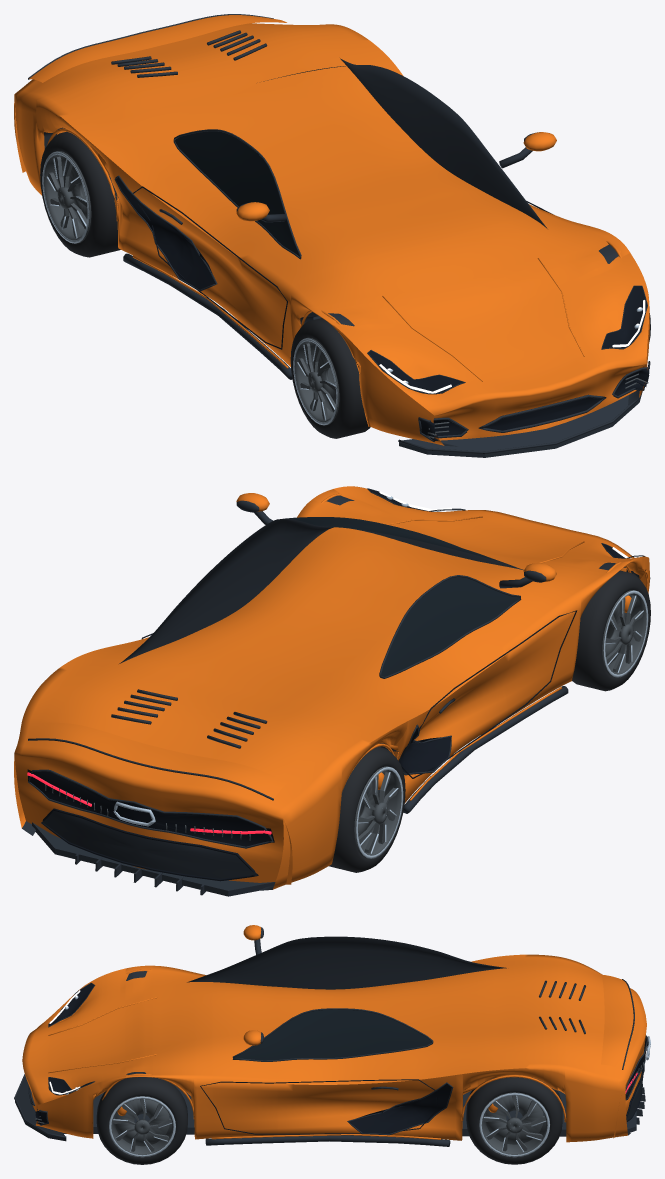
The model's file is McLaren_LOD0.glb.
The picture shows the model from 3 angles, top to bottom: view 1: azimuth 30°, elevation 25°; view 2: azimuth 150°, elevation 25°; view 3: azimuth 270°, elevation 25°; orthographic projection. The views are drawn at different scales.
Visible parts, largest first — view 1: McLaren_Body, Wheel_Rear_L, Wheel_Front_L; view 2: McLaren_Body, Wheel_Front_L, Wheel_Rear_L; view 3: McLaren_Body, Wheel_Rear_R, Wheel_Front_R.
Boxes of the visible parts, bbox=[...] form: McLaren_Body: bbox=[14, 14, 650, 457]; Wheel_Rear_L: bbox=[40, 131, 120, 257]; Wheel_Front_L: bbox=[290, 318, 370, 438]; McLaren_Body: bbox=[14, 486, 650, 896]; Wheel_Front_L: bbox=[572, 570, 650, 691]; Wheel_Rear_L: bbox=[329, 747, 405, 872]; McLaren_Body: bbox=[14, 925, 650, 1146]; Wheel_Rear_R: bbox=[466, 1077, 562, 1164]; Wheel_Front_R: bbox=[96, 1077, 187, 1164].
Bounding box in the file's own units: 2 × 1.2 × 4.57.
